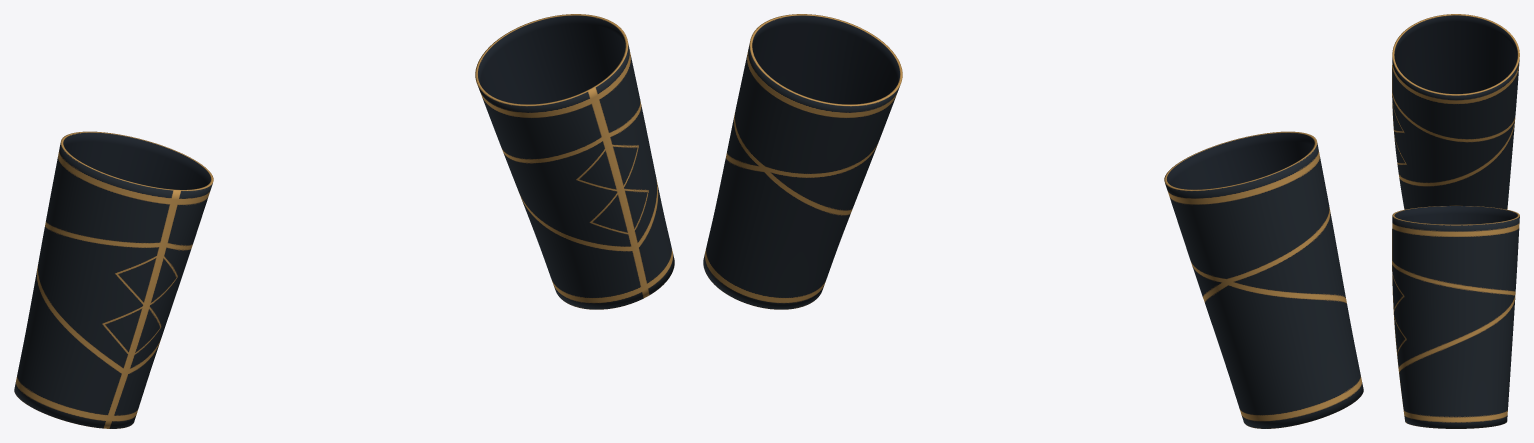
File: SM_ObsidianSovereign_UpperArms_preview_2K.glb
3 views of the same model, side by side, from view 1: azimuth 30°, elevation 25°; view 2: azimuth 150°, elevation 25°; view 3: azimuth 270°, elevation 25° (orthographic). The views are drawn at different scales.
Visible parts, largest first — view 1: SM_ObsidianSovereign_UpperArms_R, SM_ObsidianSovereign_UpperArms_L; view 2: SM_ObsidianSovereign_UpperArms_R, SM_ObsidianSovereign_UpperArms_L; view 3: SM_ObsidianSovereign_UpperArms_L, SM_ObsidianSovereign_UpperArms_R.
Part boxes in pixels (left/top/right/bottom): SM_ObsidianSovereign_UpperArms_R: left=14, top=131, right=213, bottom=428; SM_ObsidianSovereign_UpperArms_L: left=475, top=14, right=674, bottom=309; SM_ObsidianSovereign_UpperArms_R: left=1164, top=131, right=1363, bottom=428; SM_ObsidianSovereign_UpperArms_L: left=703, top=14, right=902, bottom=309; SM_ObsidianSovereign_UpperArms_L: left=1392, top=205, right=1519, bottom=428; SM_ObsidianSovereign_UpperArms_R: left=1392, top=14, right=1519, bottom=209.
Bounding box in the file's own units: 0.6916 × 0.2714 × 0.1503.
1 material, 1 textured.
